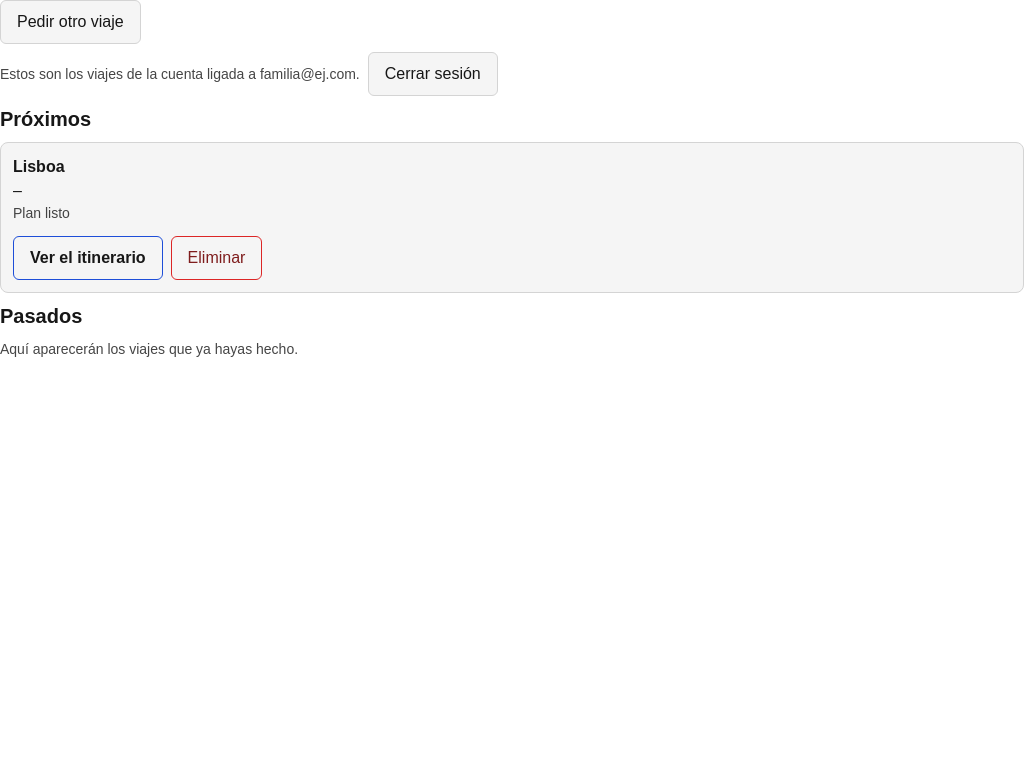
Test case: PanelViajes -- confirmación de borrado (borrar-ac4) › un DELETE que falla muestra un mensaje de error explicado y el viaje sigue en la lista
Check: the text "Lisboa" is shown, box [13, 158, 65, 175]
What coordinates should you click on to do the following:
click the button "Eliminar"
I would click on:
 (216, 258)
Its box is [171, 236, 262, 280].
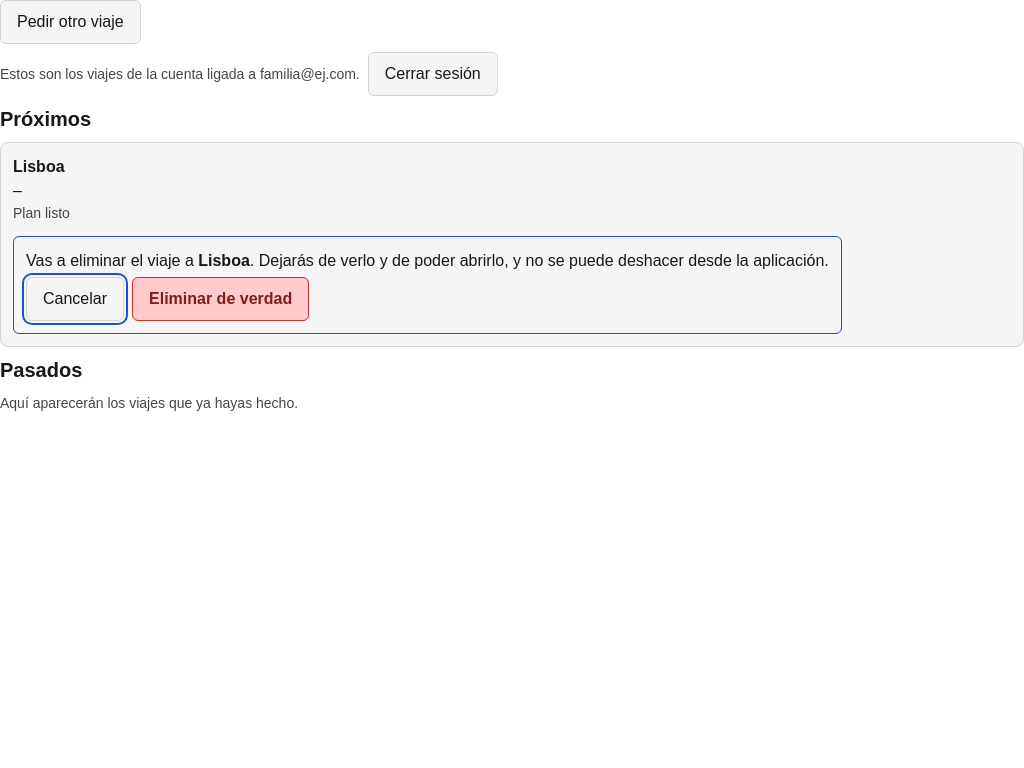
What coordinates should you click on to do the following:
click the button "Eliminar de verdad"
I would click on:
 (221, 299)
Its box is [132, 277, 309, 321].
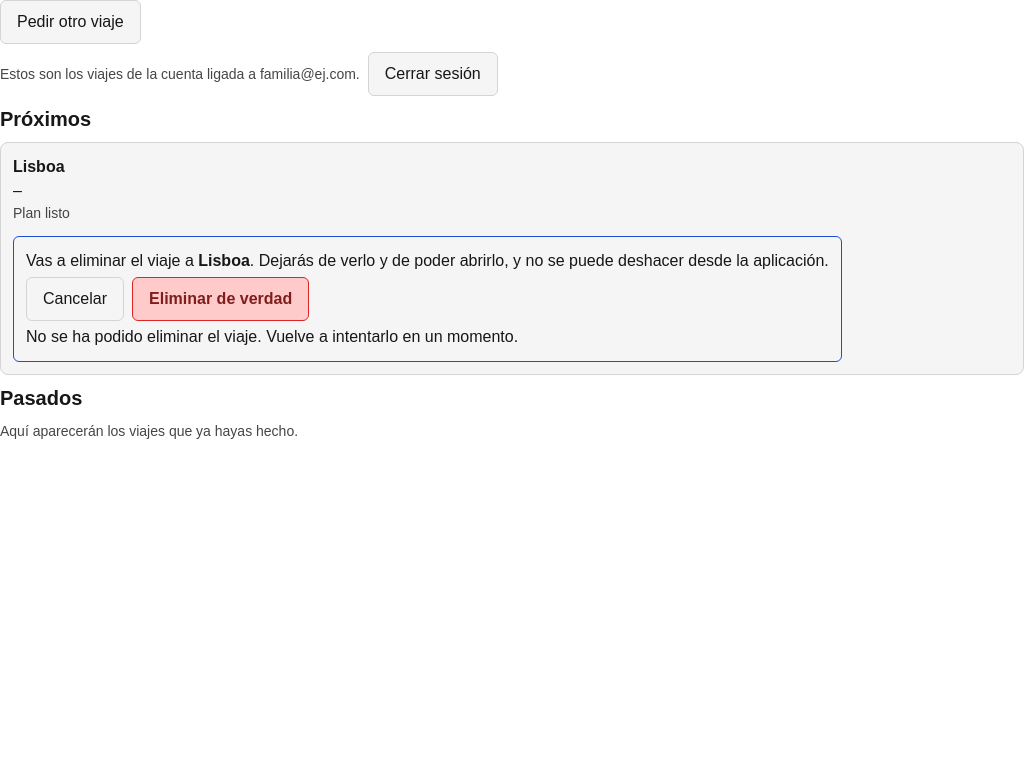
Check: the 1st text "Lisboa" is shown, box [13, 158, 65, 175]
Check: the message shows "No se ha podido eliminar", box [26, 328, 518, 345]
